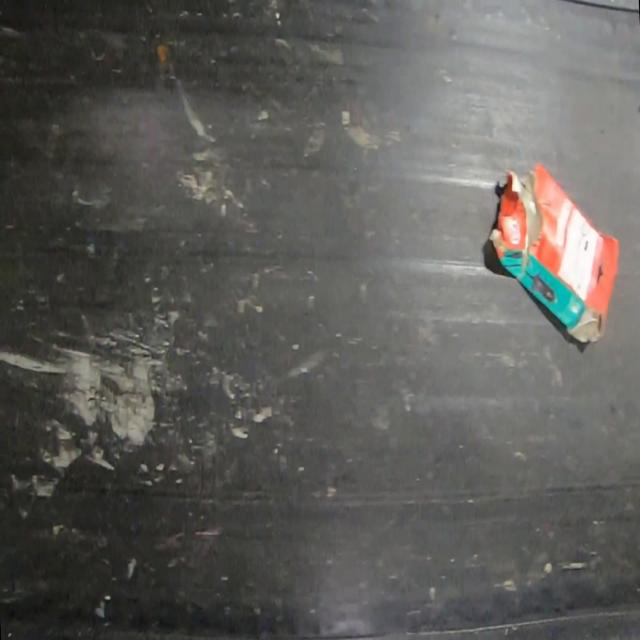cardboard: (488, 160, 621, 343)
